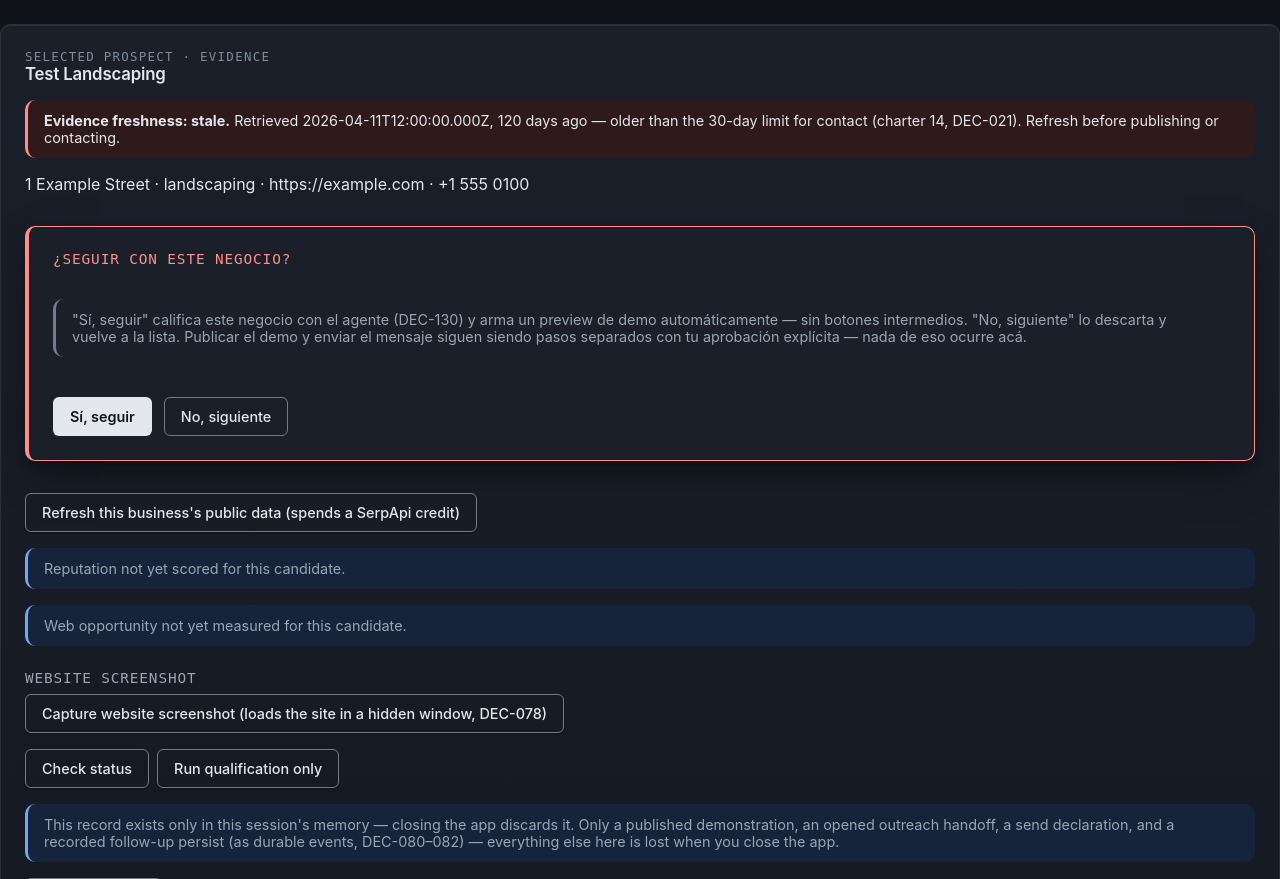
Test: DEC-095 — refreshing stale evidence, and being shown what changed › says so when nothing changed
The image size is (1280, 879).
Step 1. Click the button "Refresh this business" → (251, 512), box [25,493,477,532]
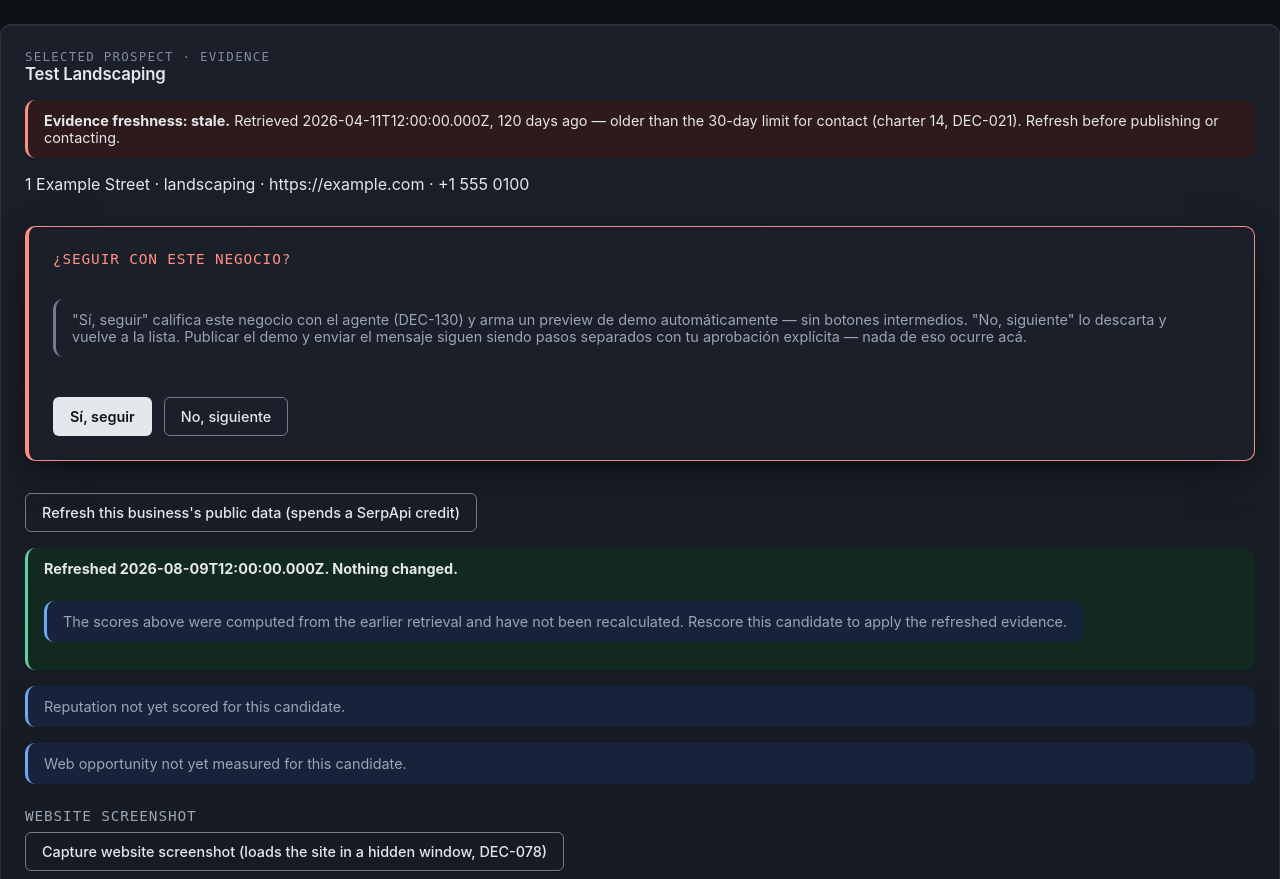
Check: the text "Refreshed 2026-08-09T12:00:00.000Z. Nothing changed." is shown, box [44,560,458,577]
